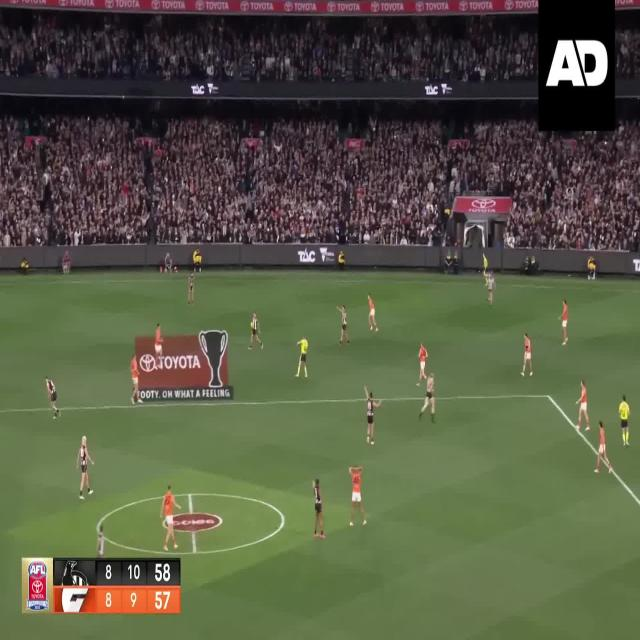crowd: (0, 107, 638, 248), (0, 17, 537, 82), (616, 21, 640, 82)
